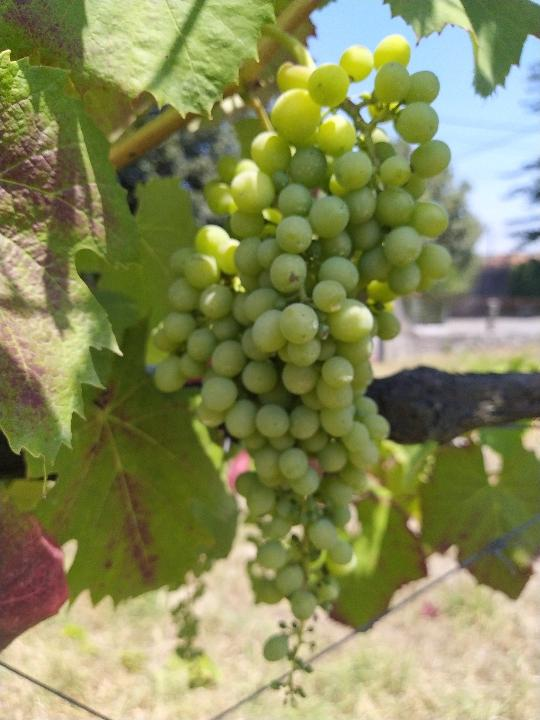grape: (150, 34, 455, 710)
